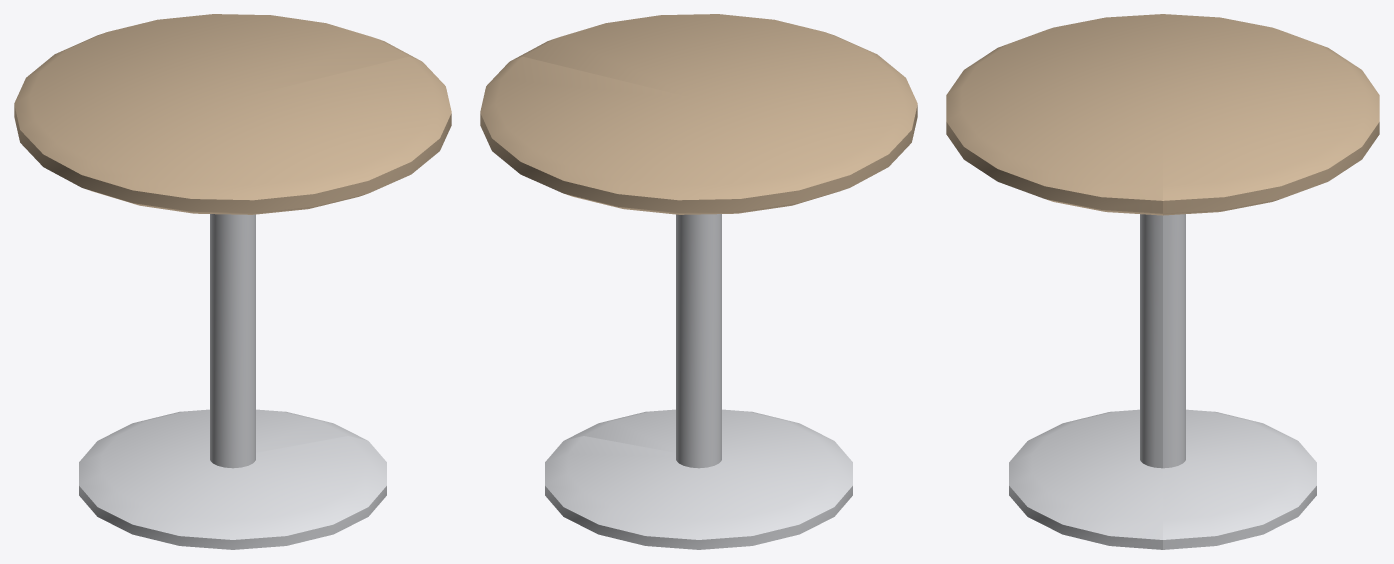
The model's file is office-lobby-and-facilities-lobby-side-table-d0cb6576__26149.glb.
3 views of the same model, side by side, from view 1: azimuth 30°, elevation 25°; view 2: azimuth 150°, elevation 25°; view 3: azimuth 270°, elevation 25° (orthographic).
Parts seen in each view (by area): view 1: lobby-side-table; view 2: lobby-side-table; view 3: lobby-side-table.
Boxes of the visible parts, bbox=[...] form: lobby-side-table: bbox=[14, 14, 451, 549]; lobby-side-table: bbox=[480, 14, 917, 549]; lobby-side-table: bbox=[946, 14, 1379, 549].
Size of the model in its own units: 0.56 by 0.542 by 0.5543.
